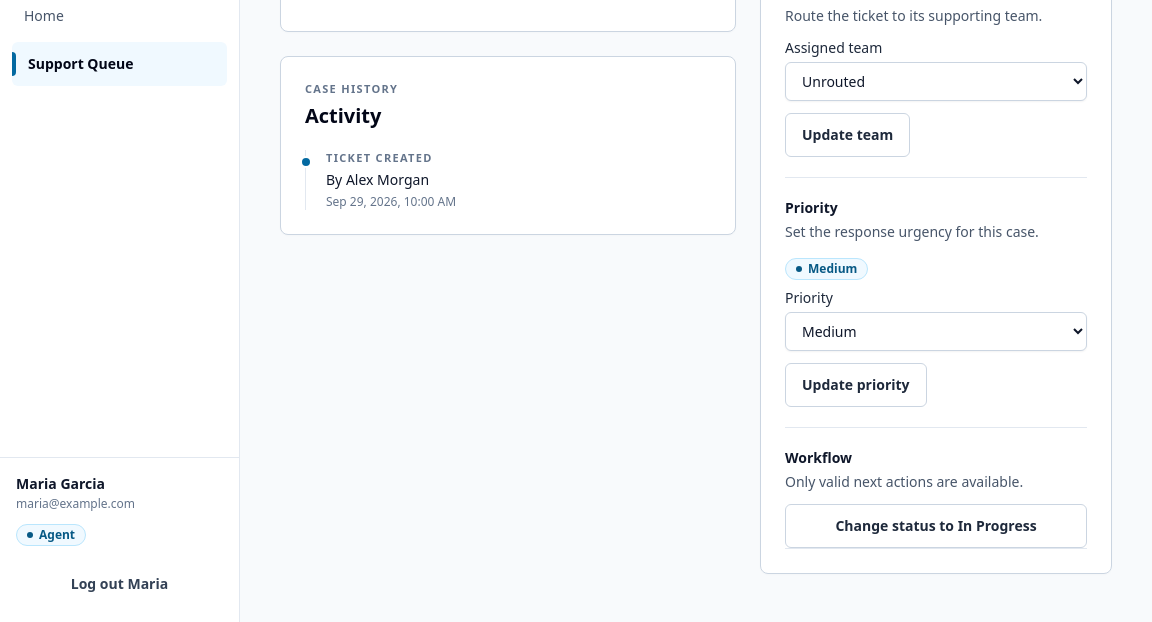
Test: ticket assignment and lifecycle controls › shows staff assignment and only valid status actions, then submits through the API layer
This screenshot has width=1152, height=622.
(page scrolled)
Click the button "Change status to In Progress": click(936, 526) [785, 504, 1087, 548]
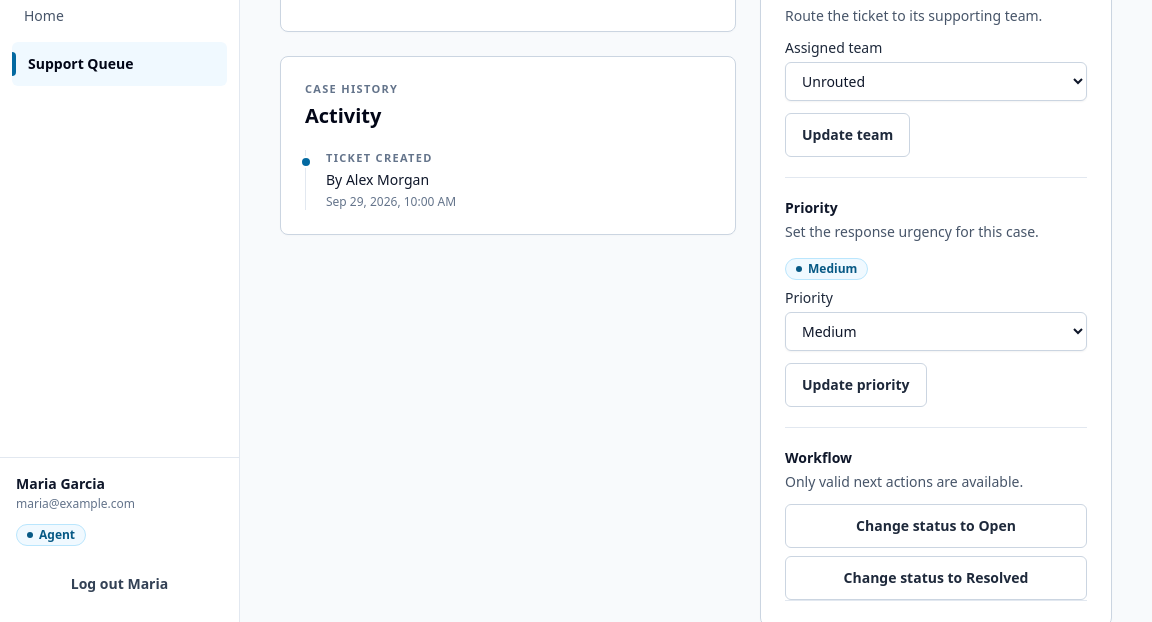
Now the button "Change status to Resolved" is shown, box [785, 556, 1087, 600]
